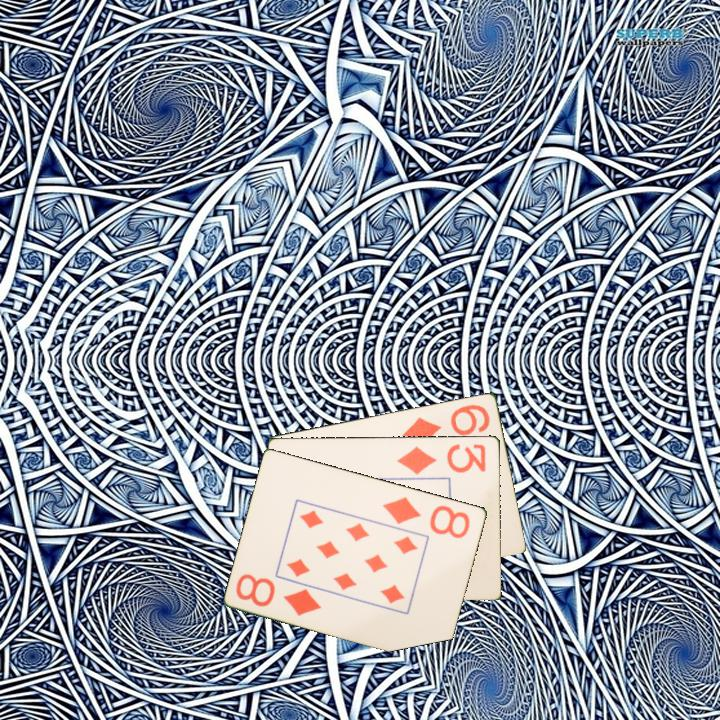3d: (394, 440, 489, 477)
6d: (399, 400, 493, 448)
8d: (379, 493, 473, 541), (233, 570, 325, 619)
